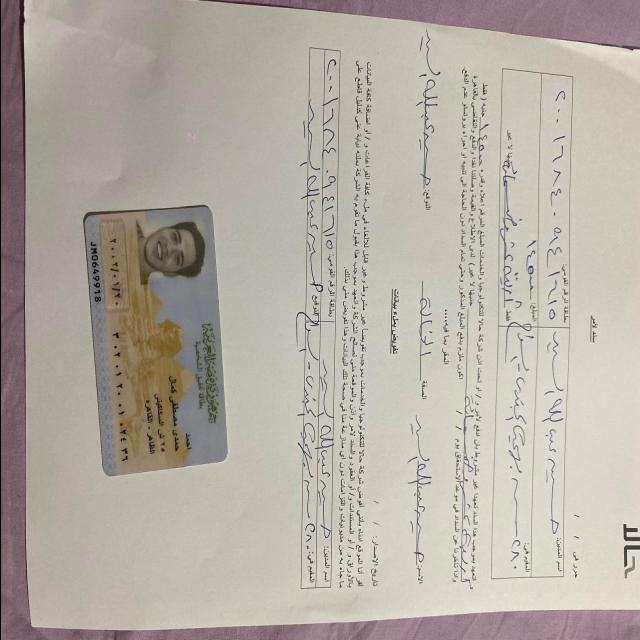id_card: (75, 200, 231, 487)
